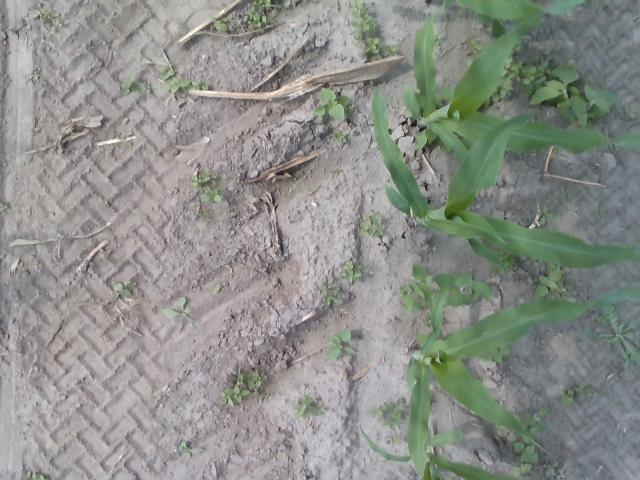Maize: (370, 81, 640, 273), (401, 280, 640, 480), (402, 0, 640, 169), (355, 421, 524, 480), (422, 0, 586, 22)
Weeds: (482, 48, 617, 133), (399, 264, 491, 312), (594, 302, 640, 376), (506, 406, 548, 478), (346, 0, 381, 62), (218, 370, 267, 406), (534, 260, 574, 302), (312, 86, 356, 122), (367, 398, 408, 432), (482, 238, 518, 276), (191, 169, 224, 204), (290, 392, 326, 419), (325, 330, 354, 363), (558, 382, 598, 404), (32, 8, 64, 34), (159, 68, 189, 93), (476, 343, 511, 364), (118, 73, 151, 95), (464, 33, 486, 64), (247, 0, 270, 29), (161, 296, 191, 318), (358, 212, 383, 238), (339, 261, 363, 284), (321, 284, 343, 308), (432, 84, 454, 108), (178, 441, 204, 460), (488, 19, 508, 42), (476, 12, 506, 26), (537, 206, 555, 226), (111, 281, 132, 297), (212, 16, 228, 33), (332, 128, 348, 144), (22, 471, 49, 480), (506, 40, 522, 55), (384, 436, 402, 448), (618, 107, 634, 120), (382, 44, 398, 56), (190, 80, 208, 90), (434, 32, 444, 48), (594, 207, 606, 217), (200, 210, 210, 221), (423, 315, 432, 327), (120, 139, 132, 148), (546, 465, 554, 477), (0, 201, 7, 213), (213, 284, 220, 292), (522, 202, 528, 209)
